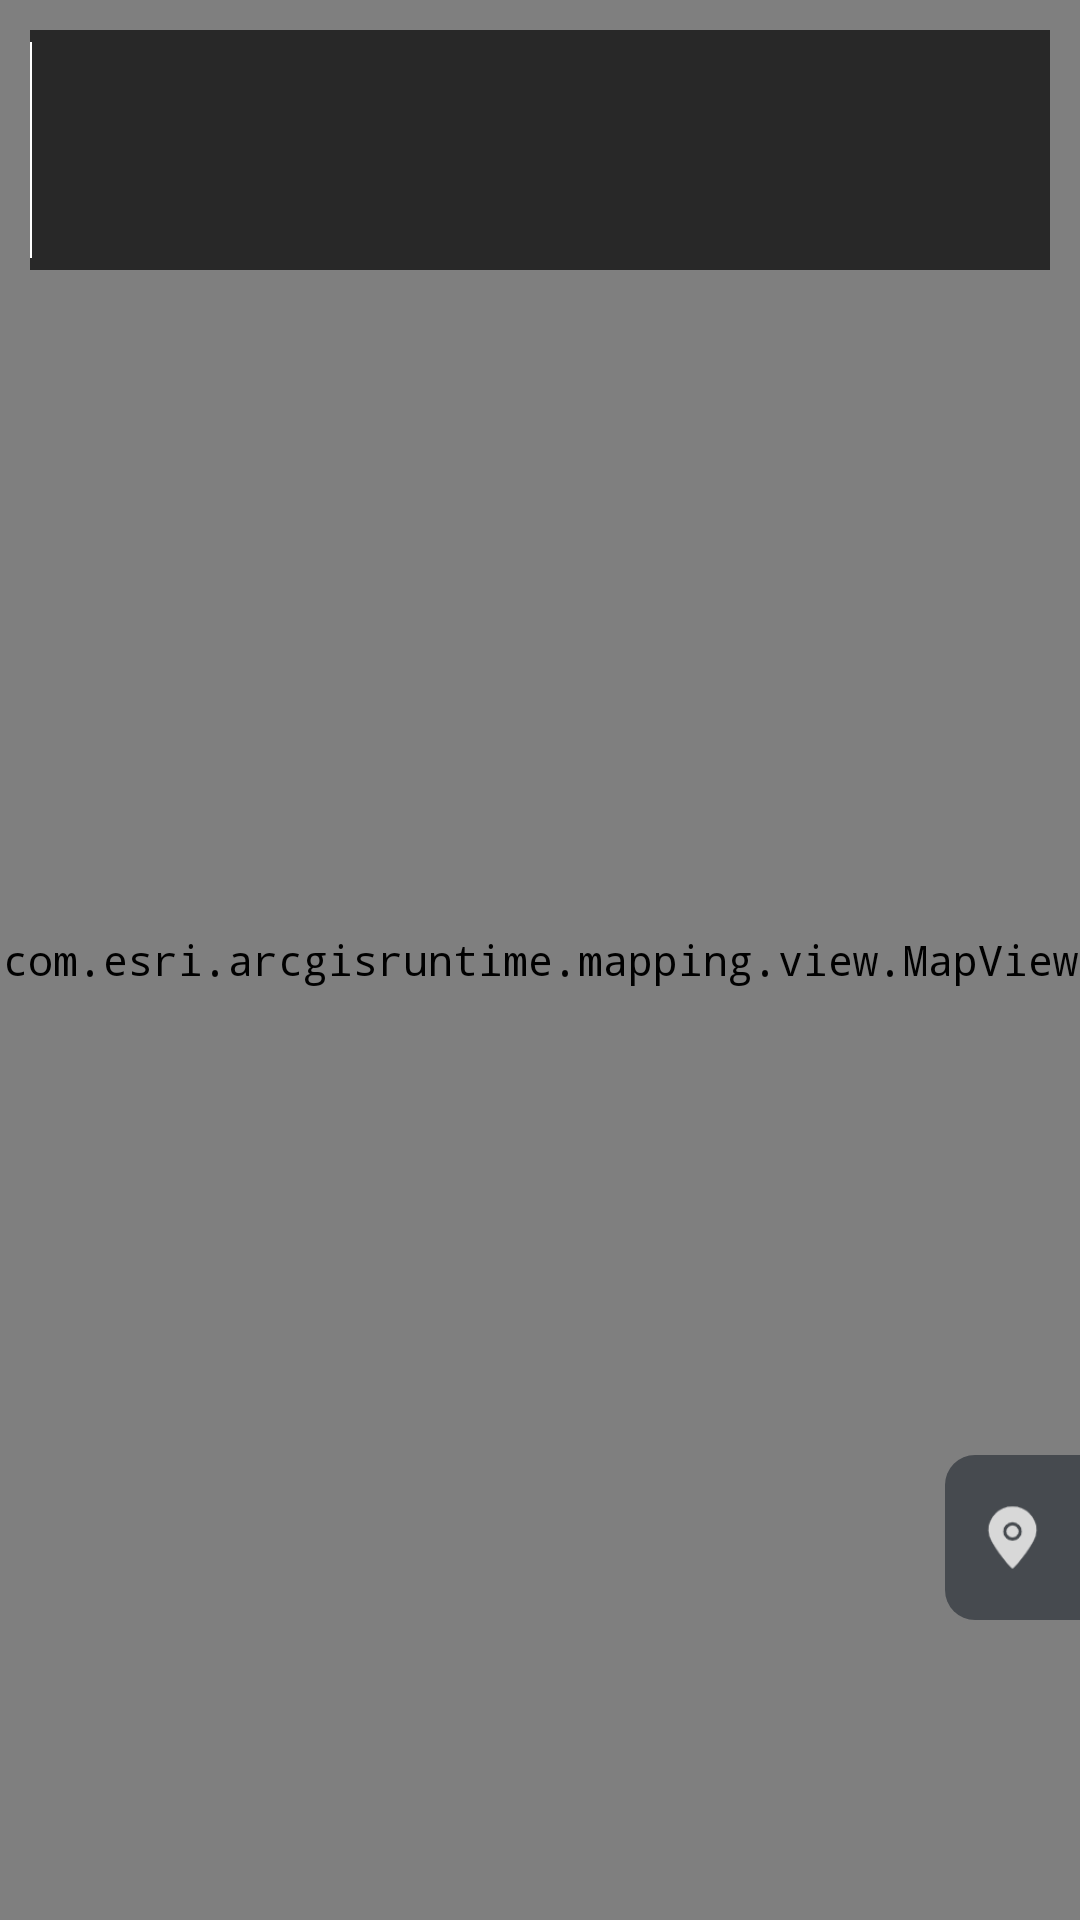

Icons on this 1080 × 1920 Android screen, each with its box as (x1, y1, x2, y2):
select self: (988, 1506, 1037, 1569)
